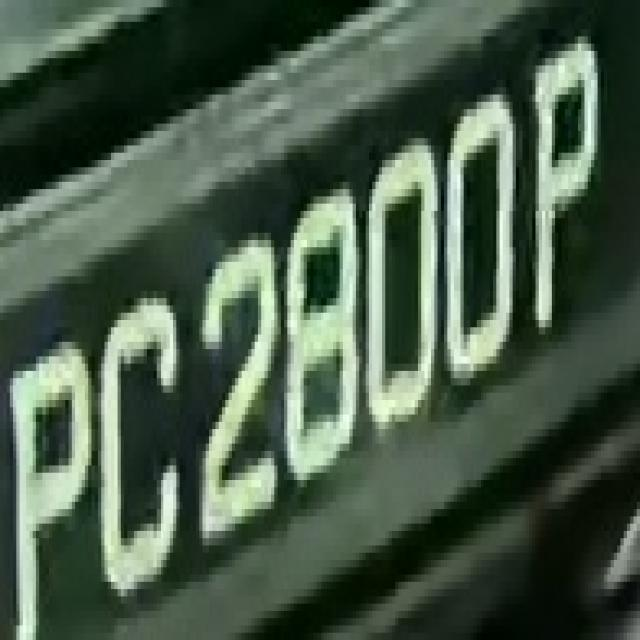0: (428, 87, 539, 400), (352, 124, 440, 451)
2: (190, 218, 288, 546)
8: (281, 204, 366, 509)
C: (98, 298, 186, 611)
P: (516, 36, 607, 320), (10, 313, 91, 625)
